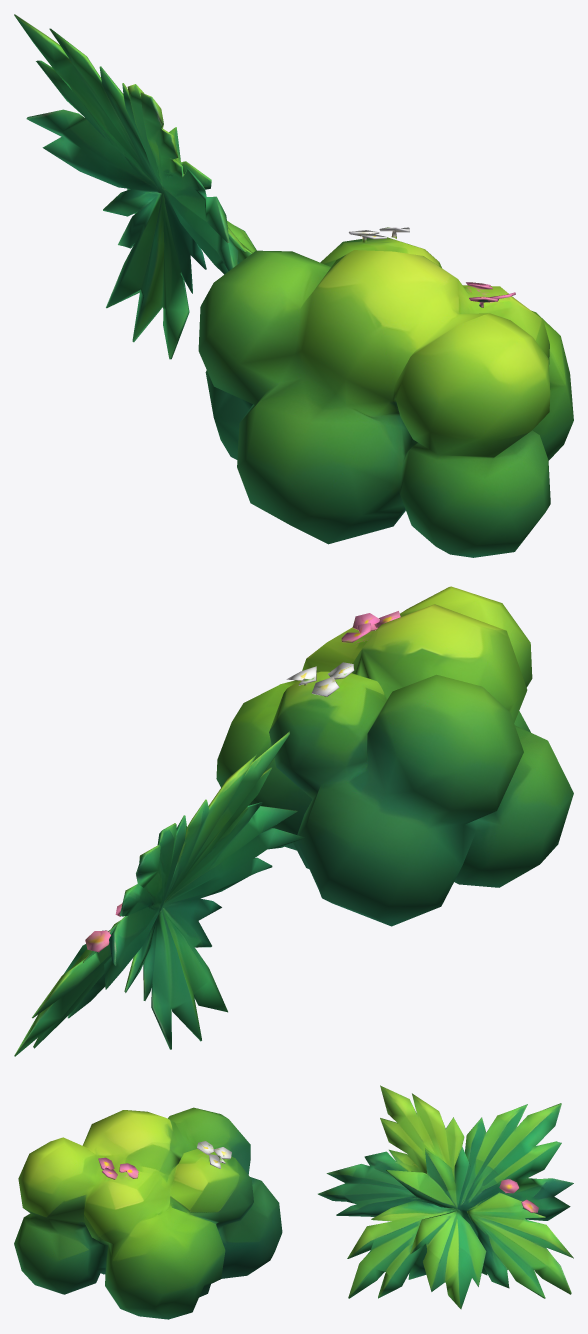
3 views of the same model, one above another, from view 1: azimuth 30°, elevation 25°; view 2: azimuth 150°, elevation 25°; view 3: azimuth 270°, elevation 25° (orthographic). The views are drawn at different scales.
Visible parts, largest first — view 1: tripo_node_aab6cedb-ecfd-444d-9e38-0046bae3fad8; view 2: tripo_node_aab6cedb-ecfd-444d-9e38-0046bae3fad8; view 3: tripo_node_aab6cedb-ecfd-444d-9e38-0046bae3fad8.
Part boxes in pixels (x1,y1,x2,y2): tripo_node_aab6cedb-ecfd-444d-9e38-0046bae3fad8: (14, 14, 573, 557); tripo_node_aab6cedb-ecfd-444d-9e38-0046bae3fad8: (14, 586, 573, 1056); tripo_node_aab6cedb-ecfd-444d-9e38-0046bae3fad8: (14, 1085, 573, 1319).
Size of the model in its own units: 0.4266 by 0.3659 by 1.
Materials: 1 (1 with a texture image).
